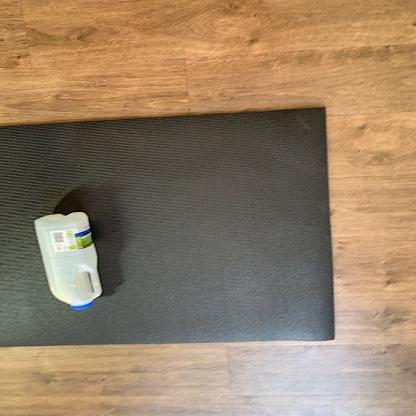trash: (34, 212, 108, 313)
